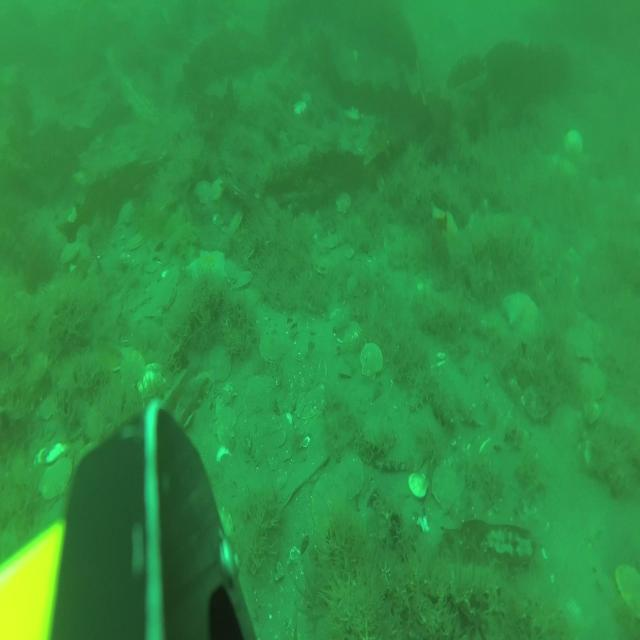holothurian: (405, 378, 437, 414)
scallop: (310, 470, 348, 529), (36, 454, 74, 503), (615, 559, 640, 626), (552, 403, 586, 452), (431, 462, 462, 512), (257, 326, 293, 364), (293, 384, 327, 424), (112, 344, 143, 385), (339, 452, 366, 499), (206, 341, 233, 386), (242, 375, 270, 418), (578, 361, 608, 401), (566, 322, 596, 361), (212, 406, 240, 446), (522, 382, 551, 420), (138, 360, 166, 398), (360, 340, 384, 382), (36, 389, 61, 424), (563, 126, 585, 161), (154, 278, 176, 312), (340, 317, 361, 349), (346, 273, 370, 301), (408, 470, 430, 500), (312, 250, 336, 276), (193, 177, 213, 207), (231, 270, 254, 292), (60, 240, 79, 265), (228, 208, 244, 236), (335, 190, 352, 216), (322, 228, 340, 251), (210, 177, 226, 201), (127, 232, 145, 252)
starfish: (189, 245, 229, 290), (502, 288, 541, 334)
